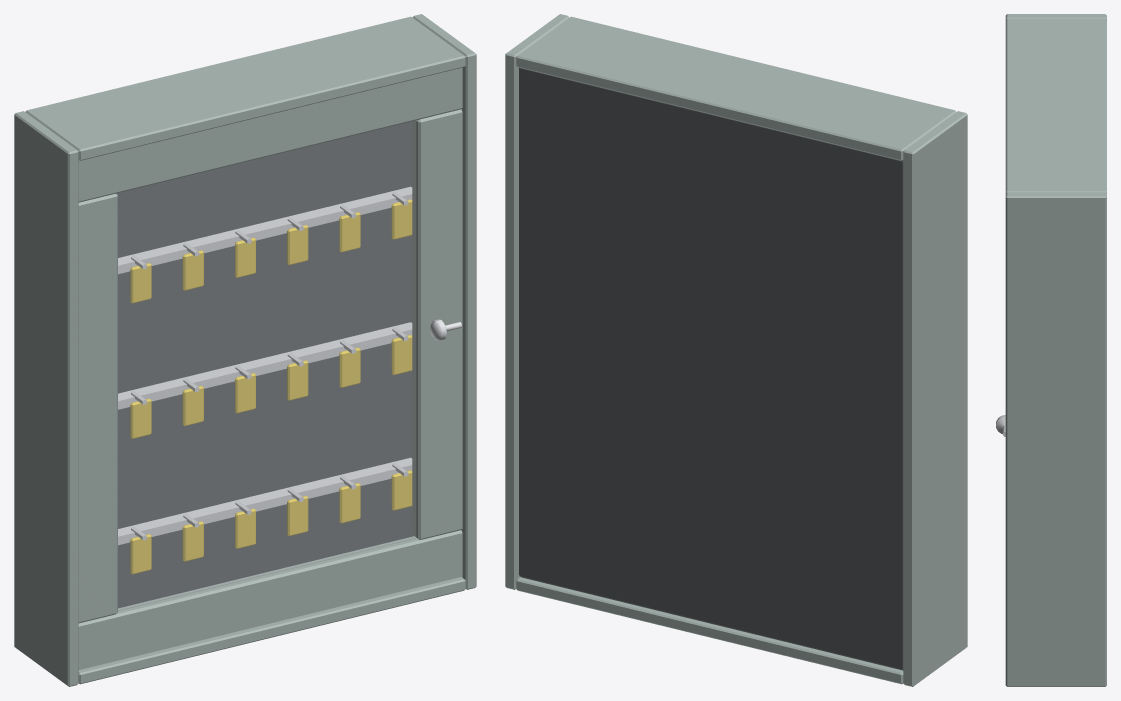
Rendered from nuclear-power-station-and-control-room-key-cabinet-618cf846__36920.glb.
3 views of the same model, side by side, from view 1: azimuth 30°, elevation 25°; view 2: azimuth 150°, elevation 25°; view 3: azimuth 270°, elevation 25° (orthographic). The views are drawn at different scales.
Visible parts, largest first — view 1: key-cabinet, door/glass, door/paint; view 2: key-cabinet; view 3: key-cabinet.
Boxes of the visible parts, x1=… form: key-cabinet: x1=14, y1=14, x2=476, y2=686; door/glass: x1=117, y1=121, x2=415, y2=610; door/paint: x1=78, y1=67, x2=462, y2=669; key-cabinet: x1=505, y1=14, x2=967, y2=686; key-cabinet: x1=1005, y1=14, x2=1106, y2=686.
Bounding box in the file's own units: 0.6 × 0.75 × 0.1533.
